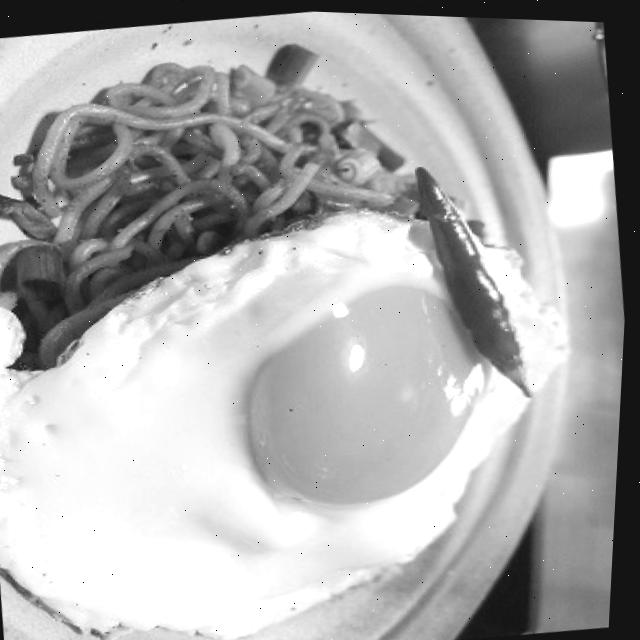鸡蛋料理: (0, 159, 617, 640)
